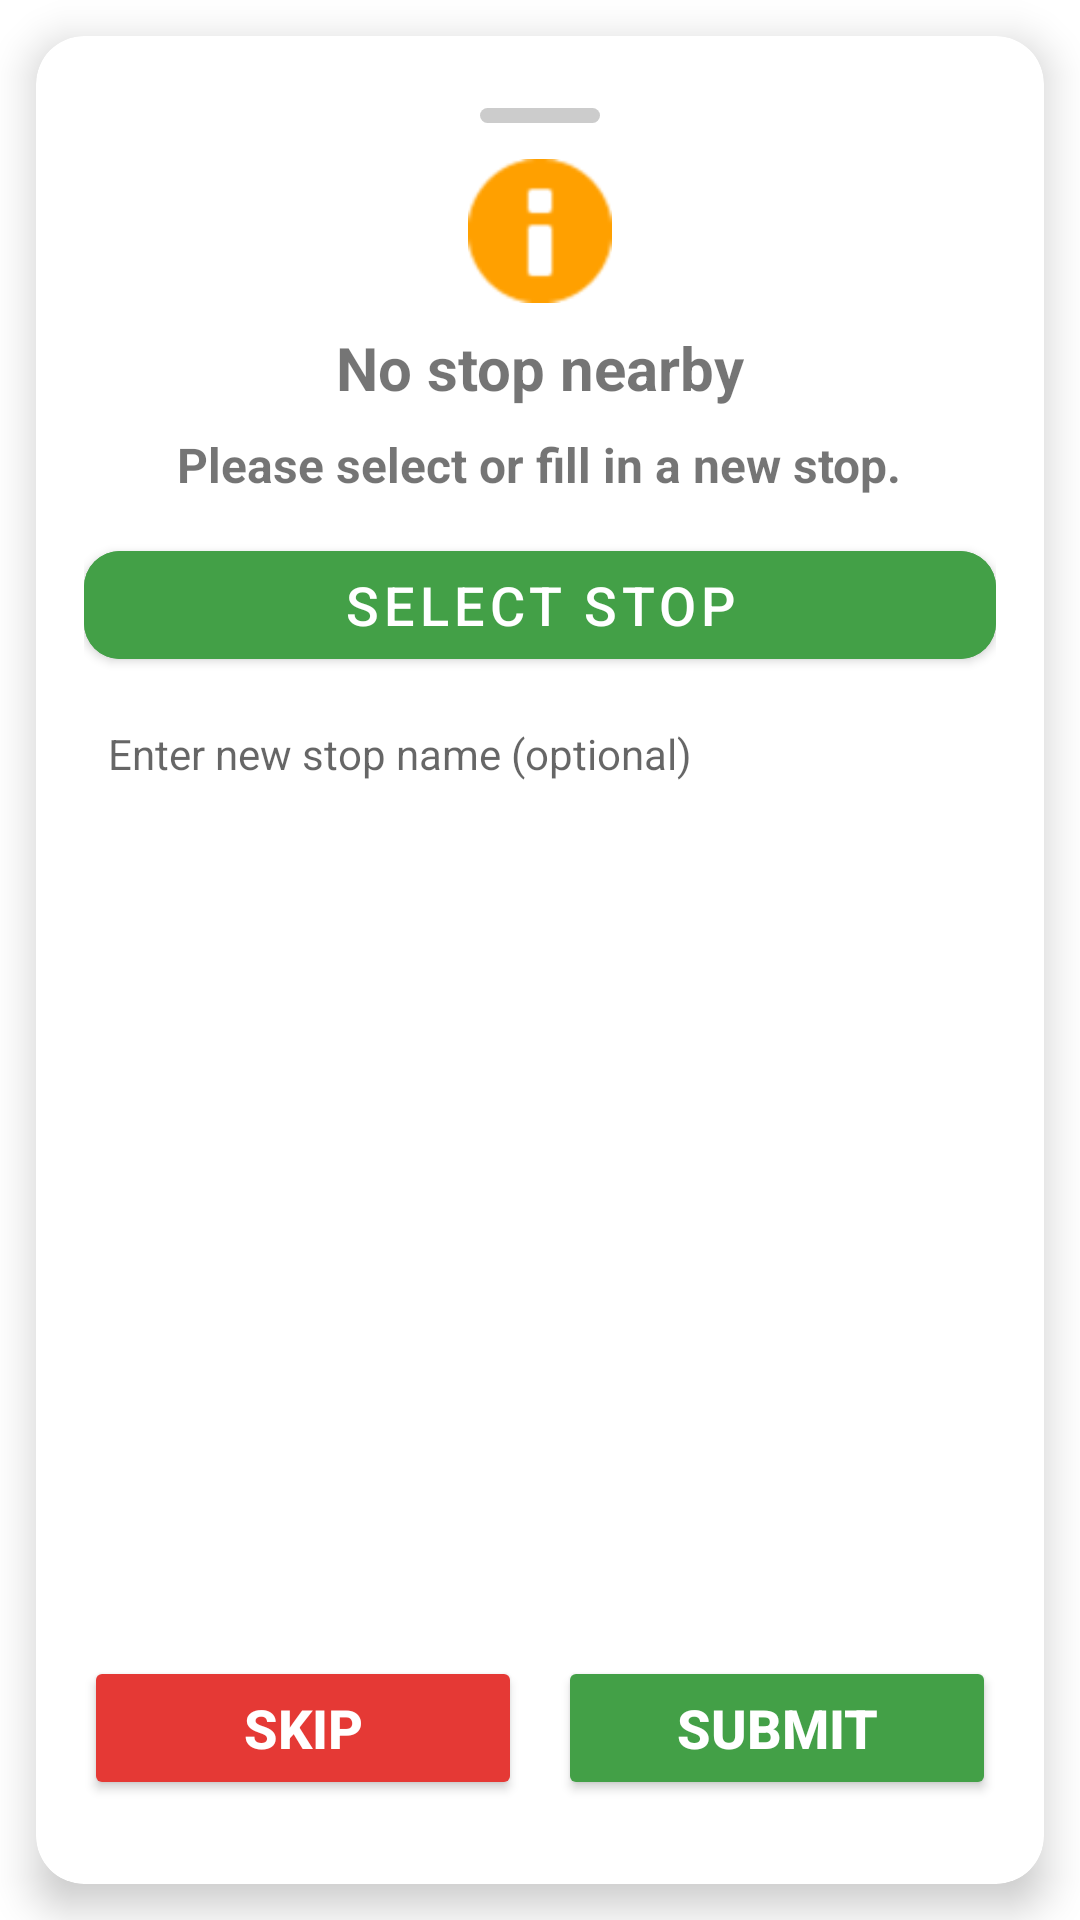

Icon bounding boxes for this 1080*1920 phone screenshot, format bbox(x1, y1, x2, y2):
info: bbox(468, 159, 612, 303)
